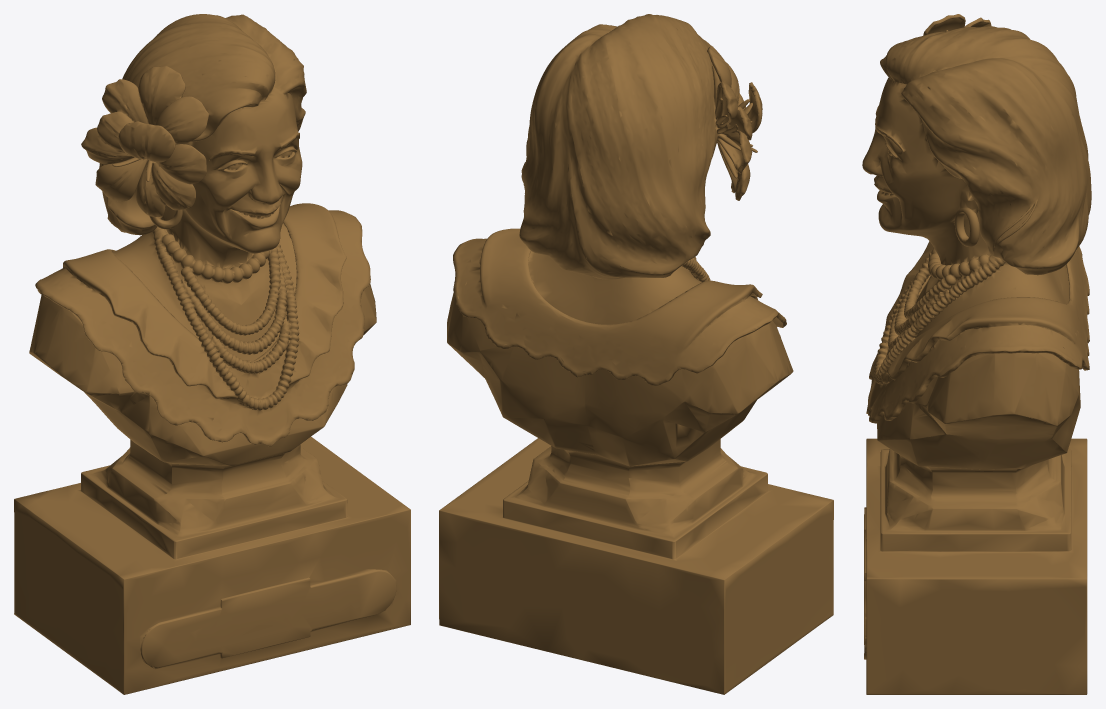
The model's file is consuelo-araujo.glb.
3 views of the same model, side by side, from view 1: azimuth 30°, elevation 25°; view 2: azimuth 150°, elevation 25°; view 3: azimuth 270°, elevation 25° (orthographic).
Parts seen in each view (by area): view 1: Consuelo_Araujo; view 2: Consuelo_Araujo; view 3: Consuelo_Araujo.
Boxes of the visible parts, x1,y1,x2,y2 form: Consuelo_Araujo: [14, 14, 410, 694]; Consuelo_Araujo: [439, 14, 833, 694]; Consuelo_Araujo: [862, 14, 1091, 694].
Bounding box in the file's own units: 0.5903 × 1.02 × 0.3562.
